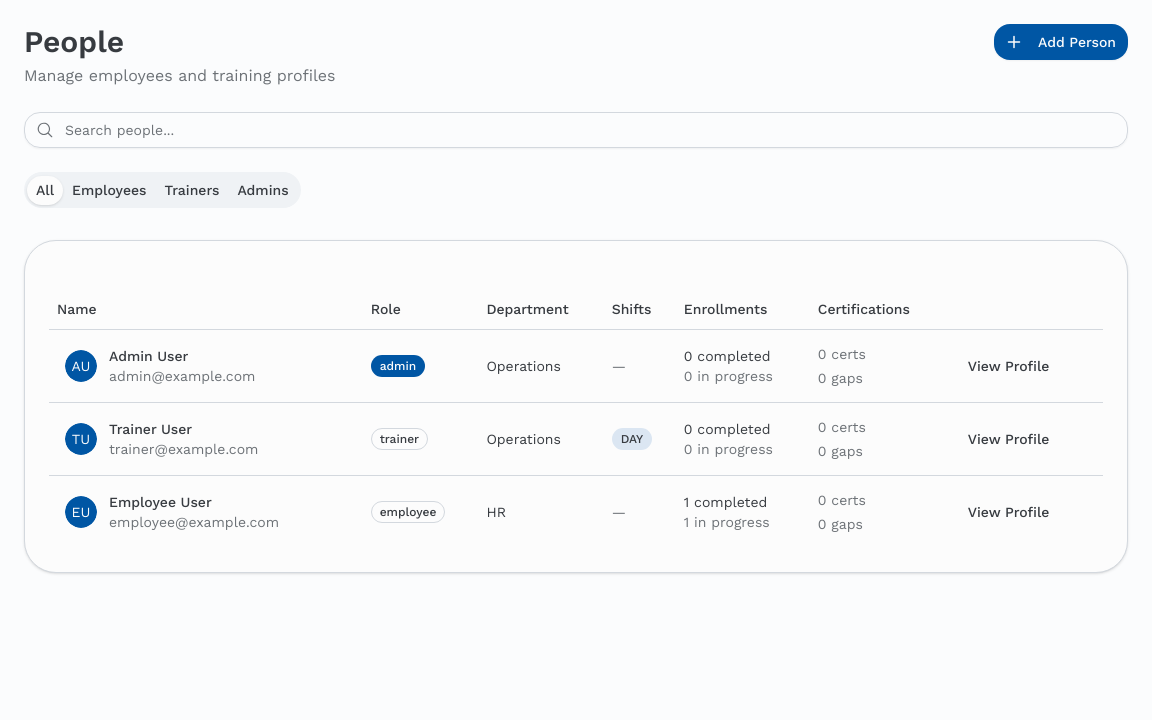
Test: People › filters people by search query across name, email, and department
This screenshot has width=1152, height=720.
Type "hr" into the field with placeholder "Search people..." at [576, 130], box [24,112,1128,148]
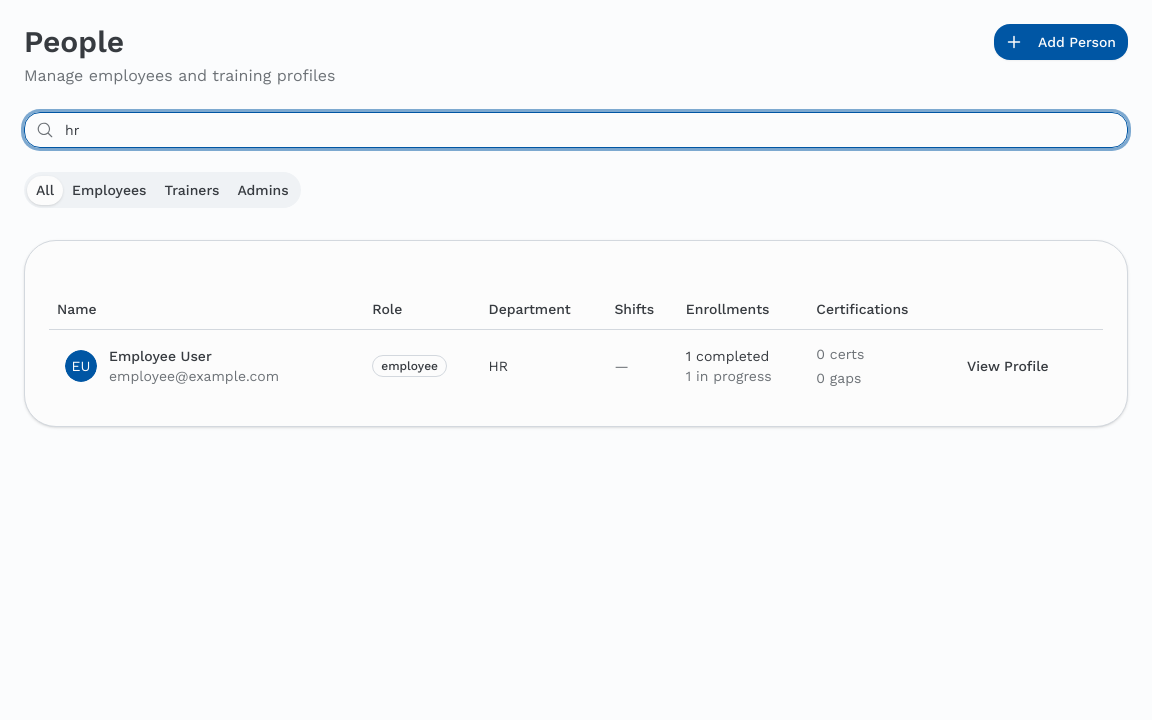
Check: the text "Employee User" is shown, box [109,346,212,366]
Check: the button "Trainer User" is gone
Check: the button "Admin User" is gone
